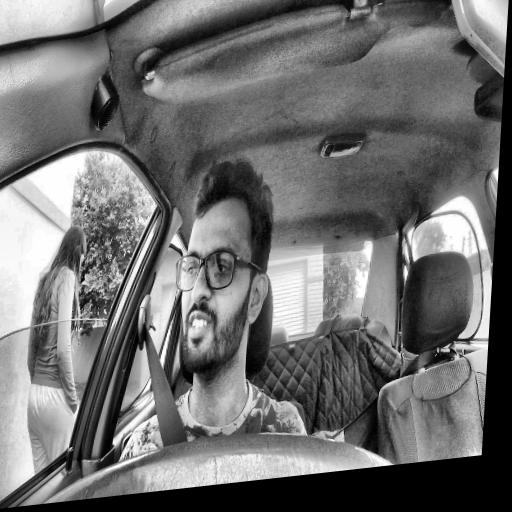awake: (168, 152, 276, 384)
